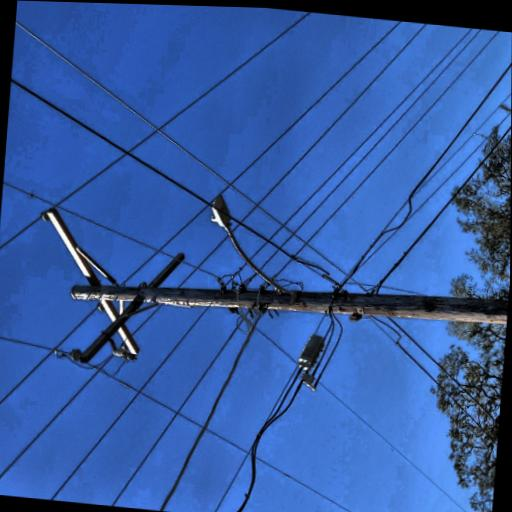insulator: (10, 183, 23, 196), (136, 151, 147, 164), (55, 213, 66, 225)
pole: (39, 178, 126, 506)
street light: (71, 331, 164, 446)
